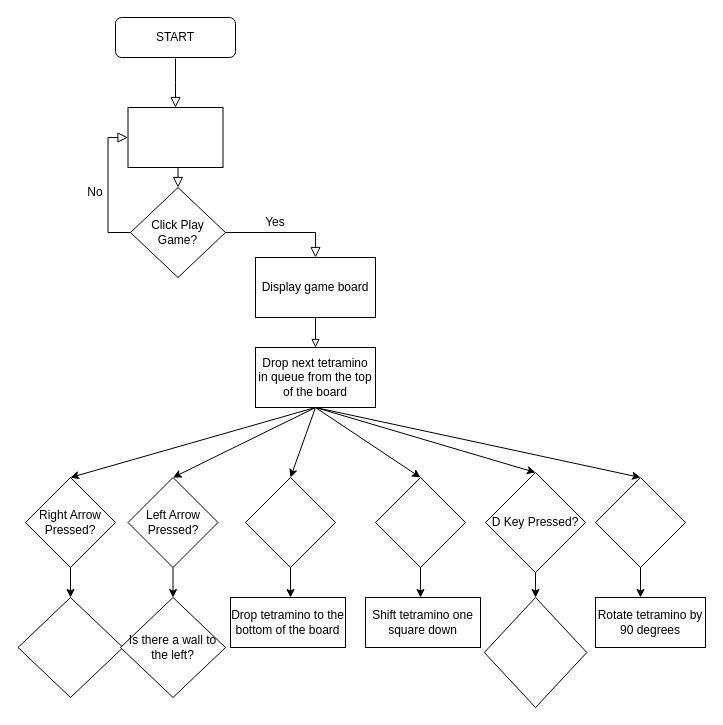
This 723x725 diagram has some shape labels left out. Here are the shapes that lost their labels. From the top down, the centre of each, then its label:
At (x=175, y=137): "Display Main Menu".
At (x=290, y=522): "Space bar Pressed?".
At (x=420, y=522): "Down Arrow Pressed?".
At (x=640, y=522): "Up Arrow Pressed?".
At (x=70, y=647): "Is there a wall to the right?".
At (x=535, y=652): "Has the user held a piece on this turn?".
